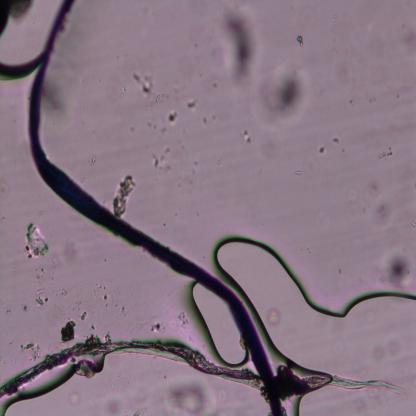Air bubble: (212, 231, 416, 387), (0, 0, 71, 87), (188, 275, 244, 371)
Background material: (257, 66, 310, 121), (225, 6, 259, 85), (162, 378, 208, 416), (377, 244, 416, 287), (44, 72, 75, 124), (24, 216, 51, 266), (112, 172, 138, 215), (369, 198, 394, 226), (262, 298, 284, 329), (58, 312, 78, 344), (18, 336, 40, 360), (134, 70, 154, 94), (364, 176, 384, 198), (32, 286, 50, 308), (401, 21, 416, 46), (348, 76, 358, 105), (378, 144, 394, 161), (159, 144, 173, 163), (145, 318, 161, 334), (186, 96, 198, 110), (395, 84, 407, 98), (167, 110, 179, 123), (178, 314, 190, 327), (243, 128, 252, 145), (382, 80, 395, 90), (332, 131, 340, 146), (150, 152, 158, 167), (88, 155, 98, 165), (102, 292, 109, 306), (210, 78, 218, 90), (154, 93, 162, 105), (162, 91, 171, 100), (80, 309, 88, 319), (203, 113, 209, 126), (320, 144, 326, 156), (295, 168, 303, 177), (119, 85, 127, 94), (296, 38, 303, 48), (160, 126, 168, 134), (120, 305, 126, 315), (369, 96, 378, 102), (331, 35, 337, 43), (147, 119, 152, 128), (258, 166, 262, 176), (216, 157, 221, 165), (212, 113, 216, 121), (166, 163, 170, 171), (331, 27, 336, 32), (196, 211, 200, 217), (363, 208, 367, 214), (194, 160, 198, 165), (341, 148, 346, 152), (413, 222, 416, 228)
Cellulose filter fibre: (0, 335, 260, 399), (278, 368, 404, 401)
Cotton: (18, 50, 288, 416)
